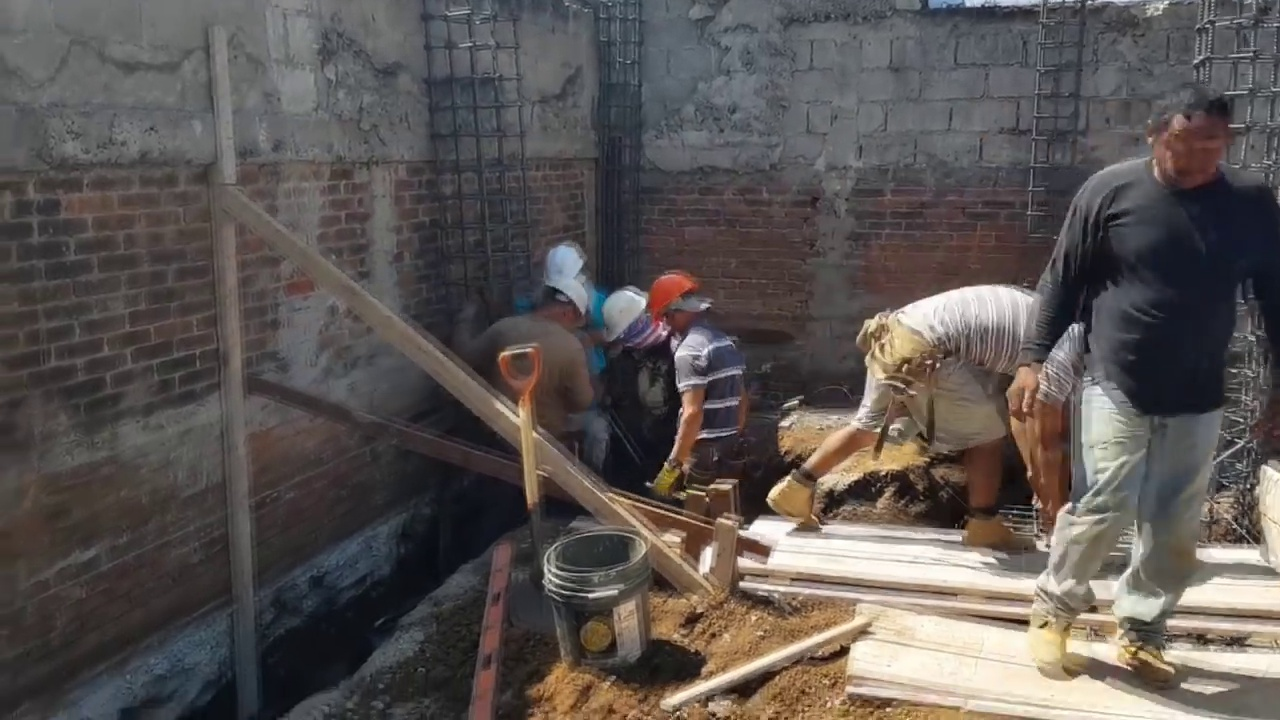helmet: (648, 271, 702, 316), (603, 289, 648, 339), (544, 273, 590, 319), (544, 244, 589, 276)
helmet-off: (1147, 84, 1244, 183)
helmet-on: (652, 271, 712, 336), (601, 289, 660, 352), (525, 275, 589, 330)
person: (1010, 72, 1261, 701), (762, 285, 1051, 557), (447, 274, 594, 467), (653, 268, 746, 491), (601, 289, 675, 483)
